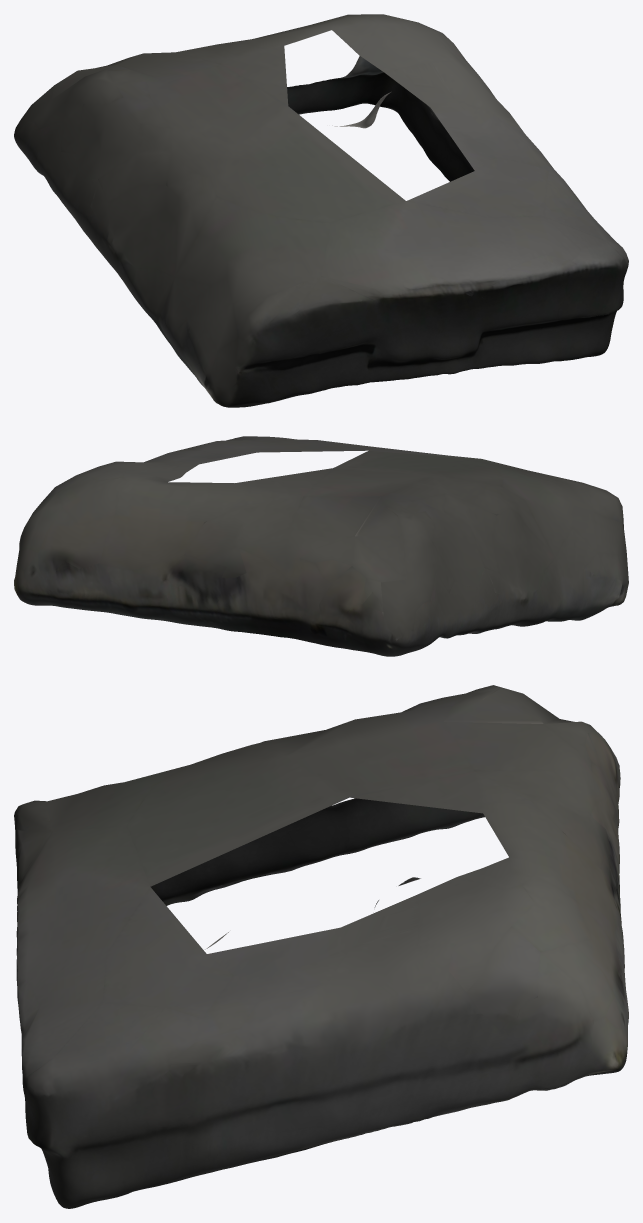
The picture shows the model from 3 angles, top to bottom: view 1: azimuth 30°, elevation 25°; view 2: azimuth 150°, elevation 25°; view 3: azimuth 270°, elevation 25°; orthographic projection. The views are drawn at different scales.
Bounding box in the file's own units: 0.6447 × 0.3599 × 0.639.
Materials: 1 (1 with a texture image).
